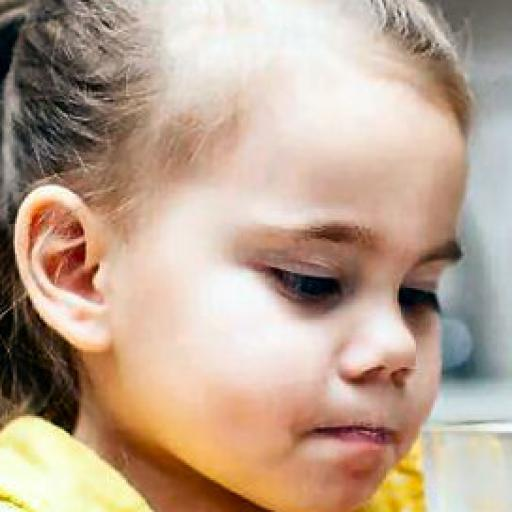Autism: (2, 4, 512, 482)
